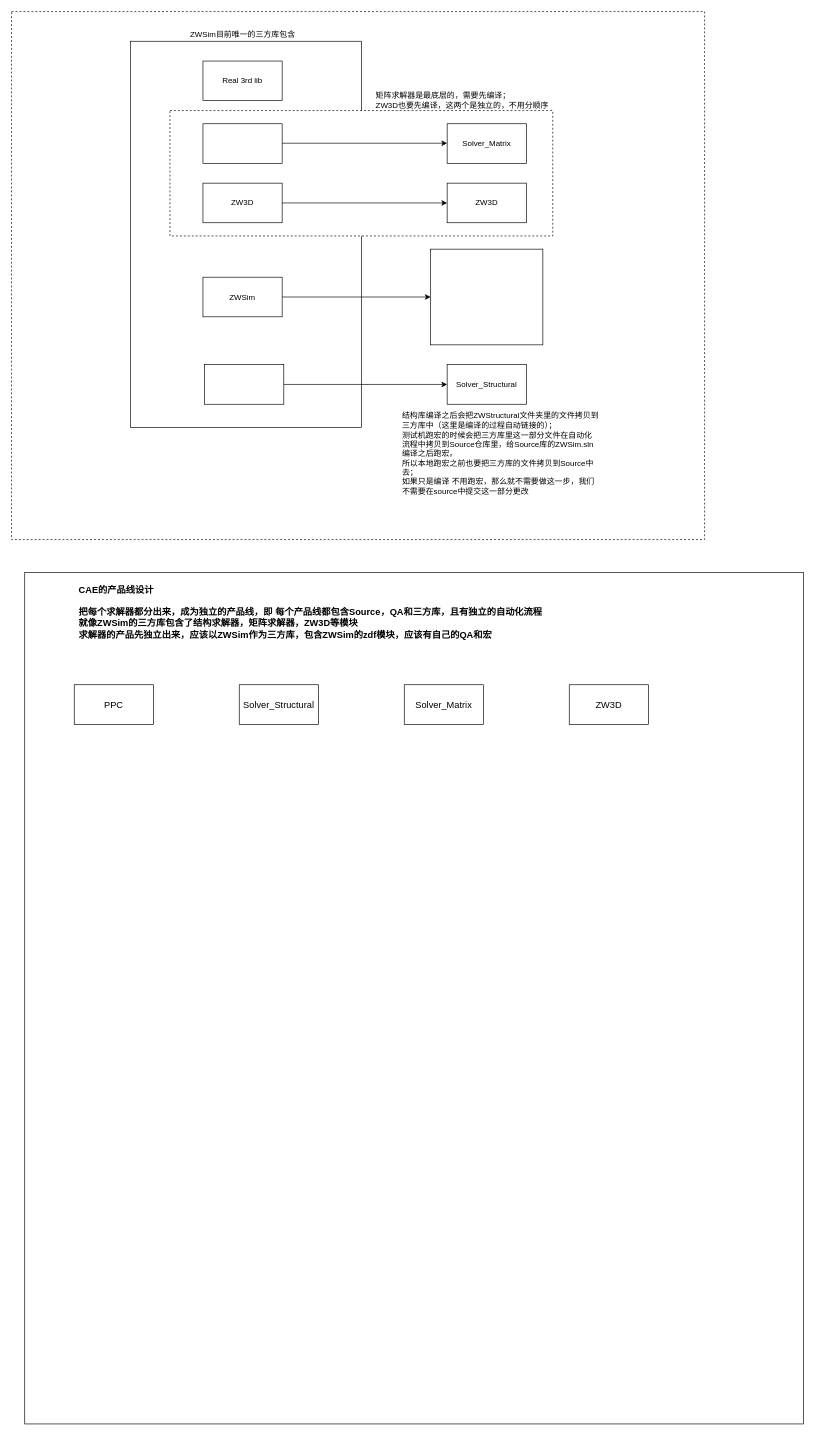
Some shapes in this 815 by 1436 pixel diagram are drawn without their labels. The centre of each missing label's shape, as x and y in pixels:
"zdf 文件更改，提交ZWSim的分支会通过写PostBuild将编译后所需的文件复制到三方库的该文件夹； zdf是结构库依赖的一个lib" belongs at point 486,296.
"ZwMath" belongs at point 242,143.
"ZWSolver" belongs at point 244,384.
